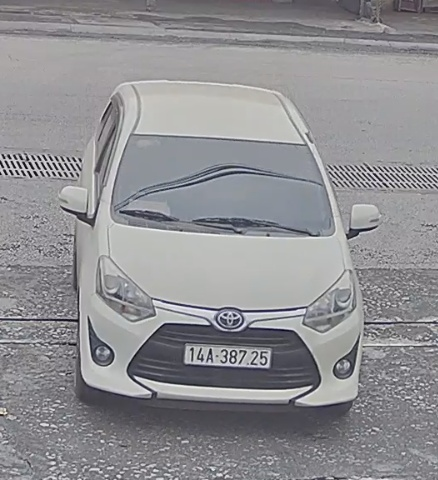vehicle plate: (183, 337, 276, 373)
